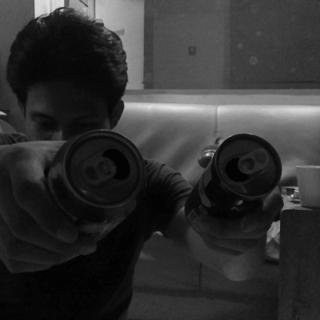alumunium_can: (42, 129, 146, 243), (183, 130, 285, 236)
